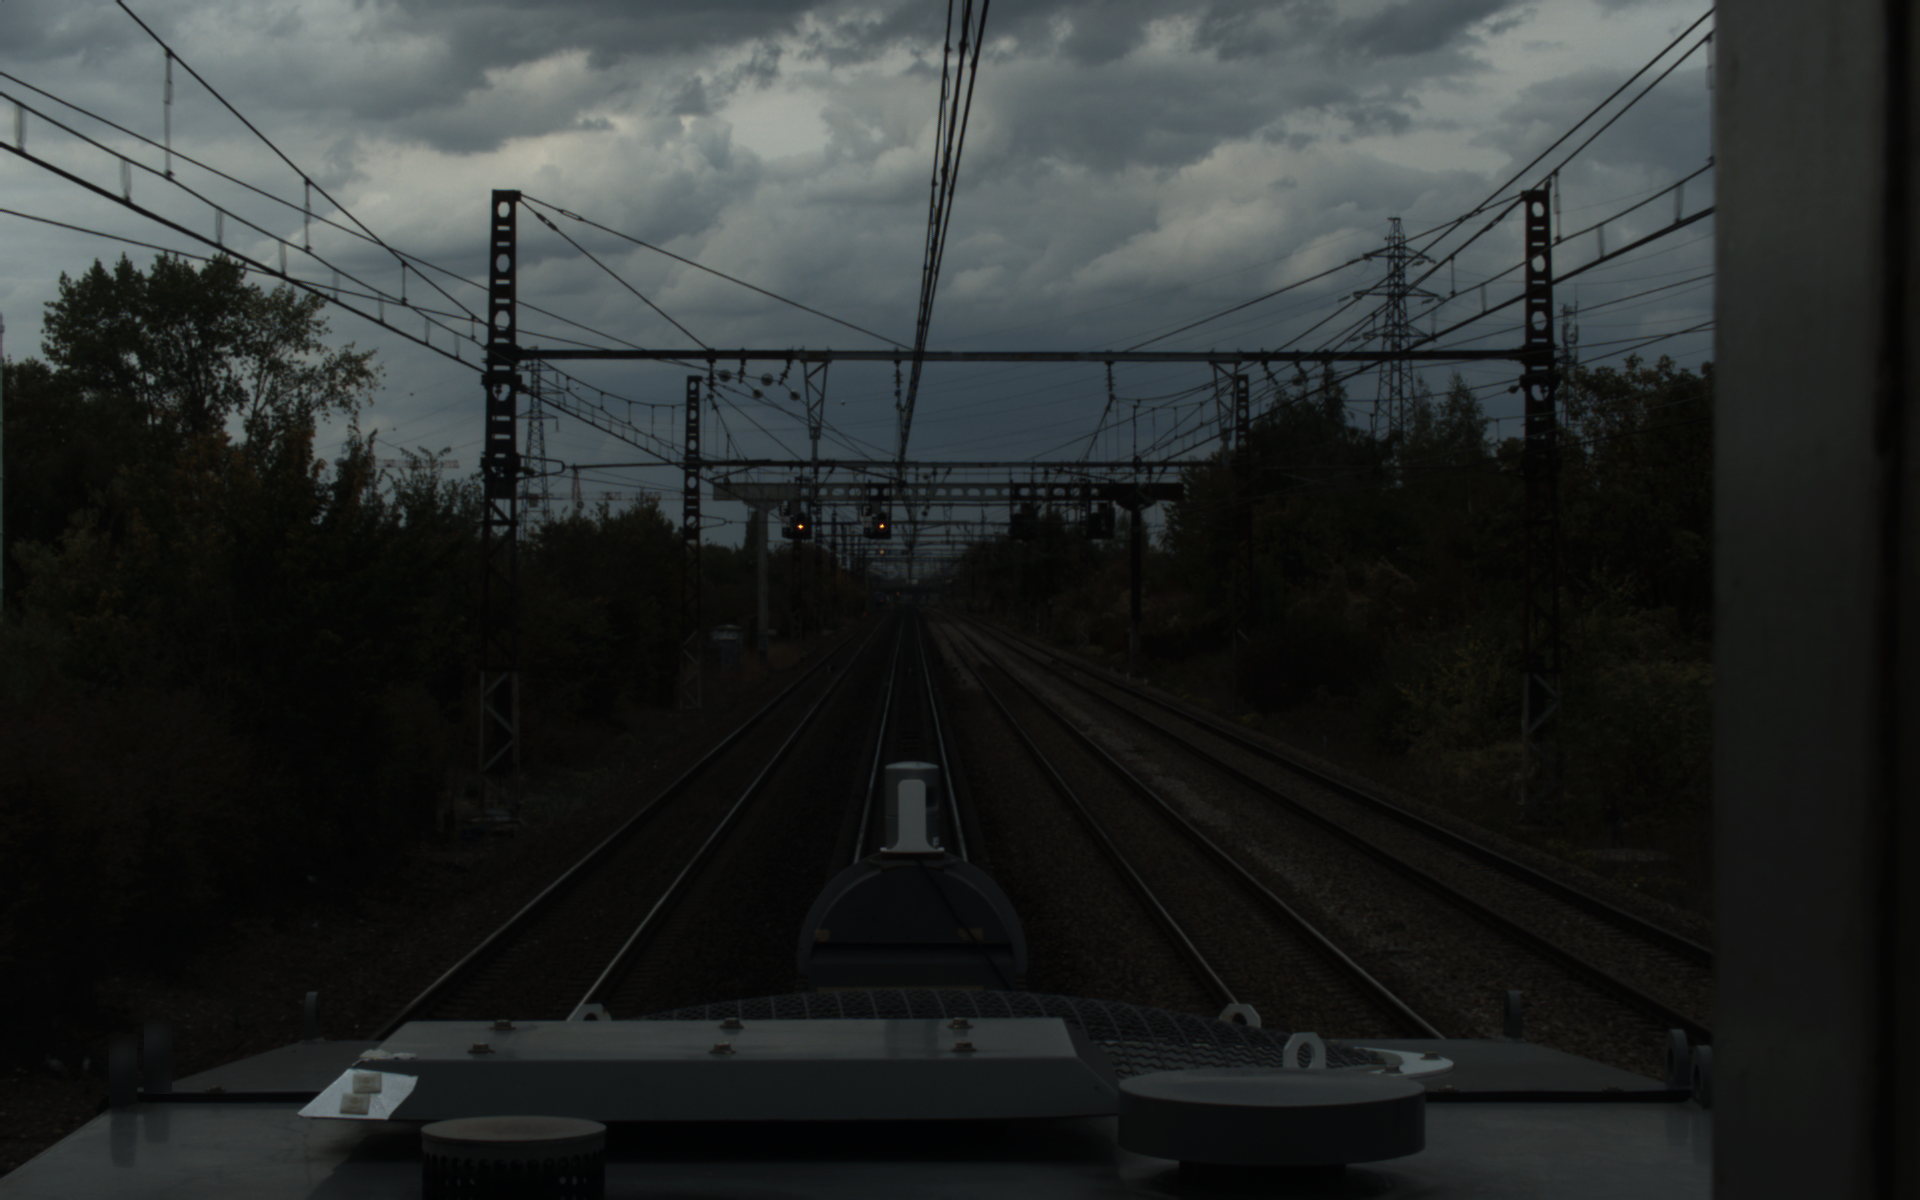Blinking: (875, 507, 889, 534)
Fixed: (792, 509, 809, 535)
